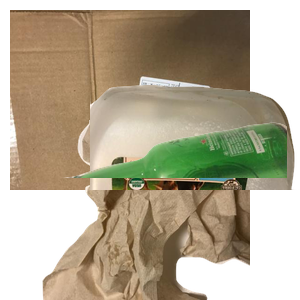cardboard: (10, 10, 250, 190)
glass: (60, 120, 300, 300)
plastic: (90, 82, 300, 262)
trash: (40, 120, 280, 300)
